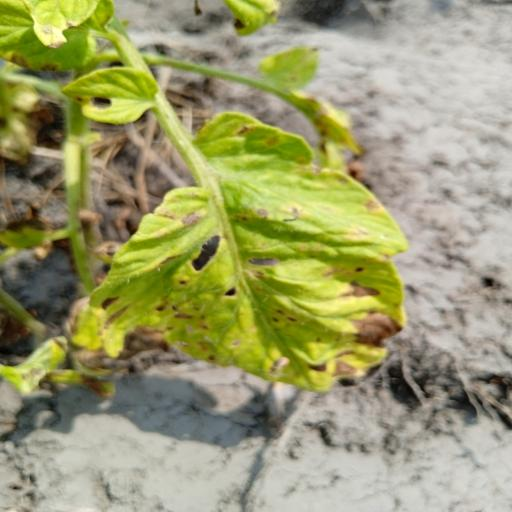Tomato_Brown_Spots: (58, 107, 416, 397)
